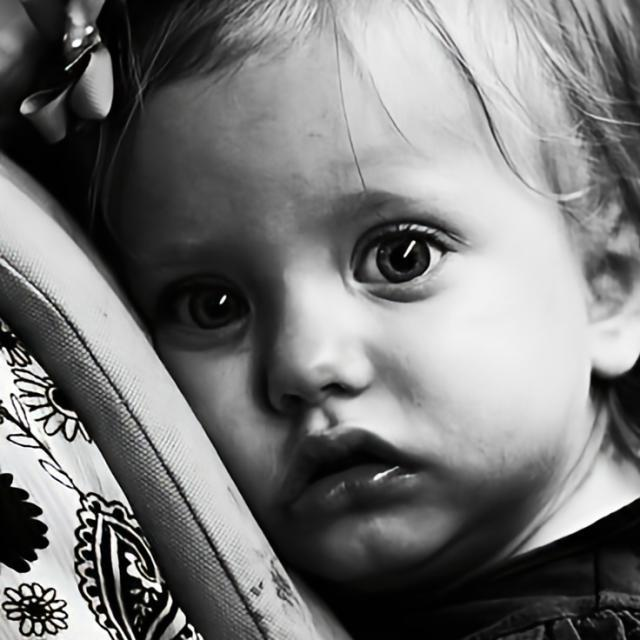sad: (102, 0, 592, 603)
